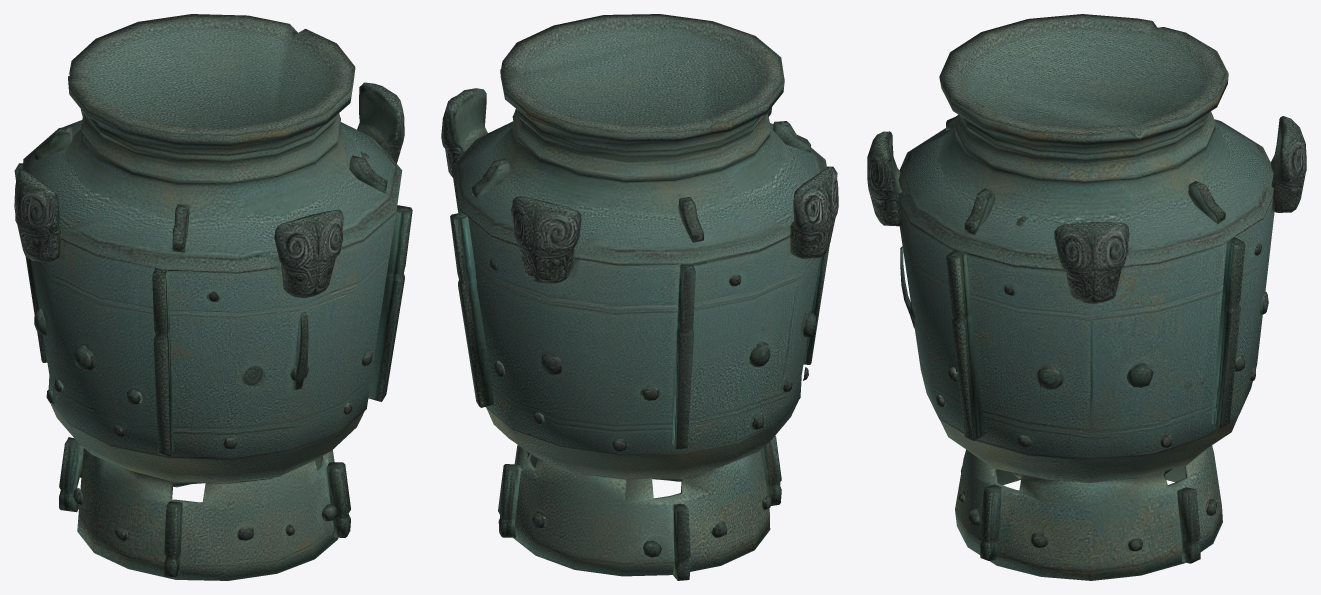
File: second-bronze-ding.glb
The picture shows the model from 3 angles, left to right: view 1: azimuth 30°, elevation 25°; view 2: azimuth 150°, elevation 25°; view 3: azimuth 270°, elevation 25°; orthographic projection.
Parts seen in each view (by area): view 1: second-bronze-ding; view 2: second-bronze-ding; view 3: second-bronze-ding.
Part boxes in pixels (box(x1,y1,x2,y2)): second-bronze-ding: box(14, 14, 412, 580); second-bronze-ding: box(441, 14, 838, 580); second-bronze-ding: box(867, 14, 1306, 580).
Size of the model in its own units: 0.8887 by 0.998 by 0.8809.
Materials: 1 (1 with a texture image).
